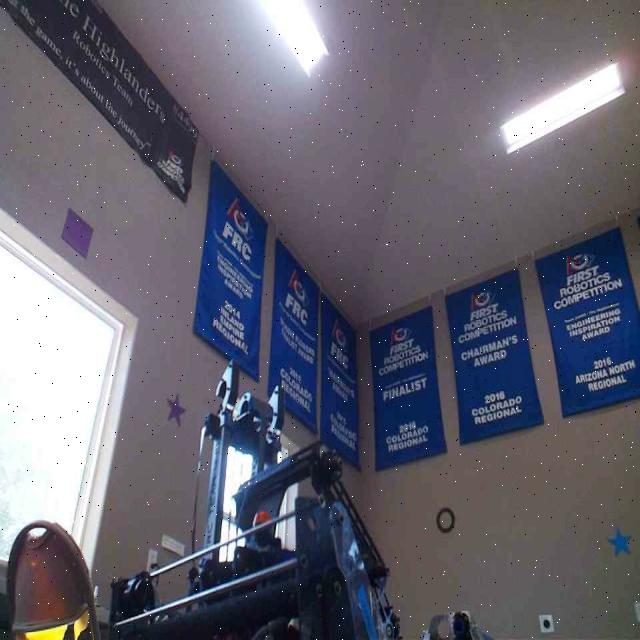ring_black: (436, 506, 453, 532)
square_purple: (59, 208, 93, 257)
star_blue: (606, 524, 632, 558)
star_purple: (165, 388, 185, 428)
